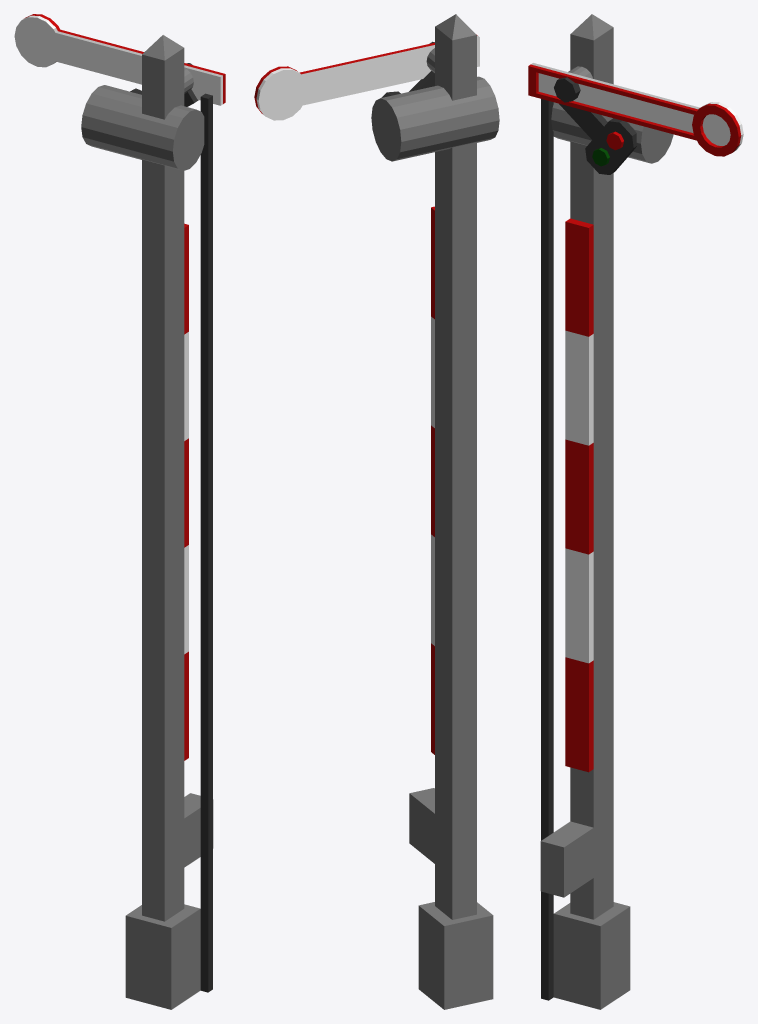
The model's file is GMLID_7431654_78949_792.dae.
3 renders of one model, left to right at view 1: azimuth 90°, elevation 25°; view 2: azimuth 150°, elevation 25°; view 3: azimuth 270°, elevation 25°, orthographic. The views are drawn at different scales.
Bounding box in the file's own units: 2.5 × 2.8 × 14.04.
